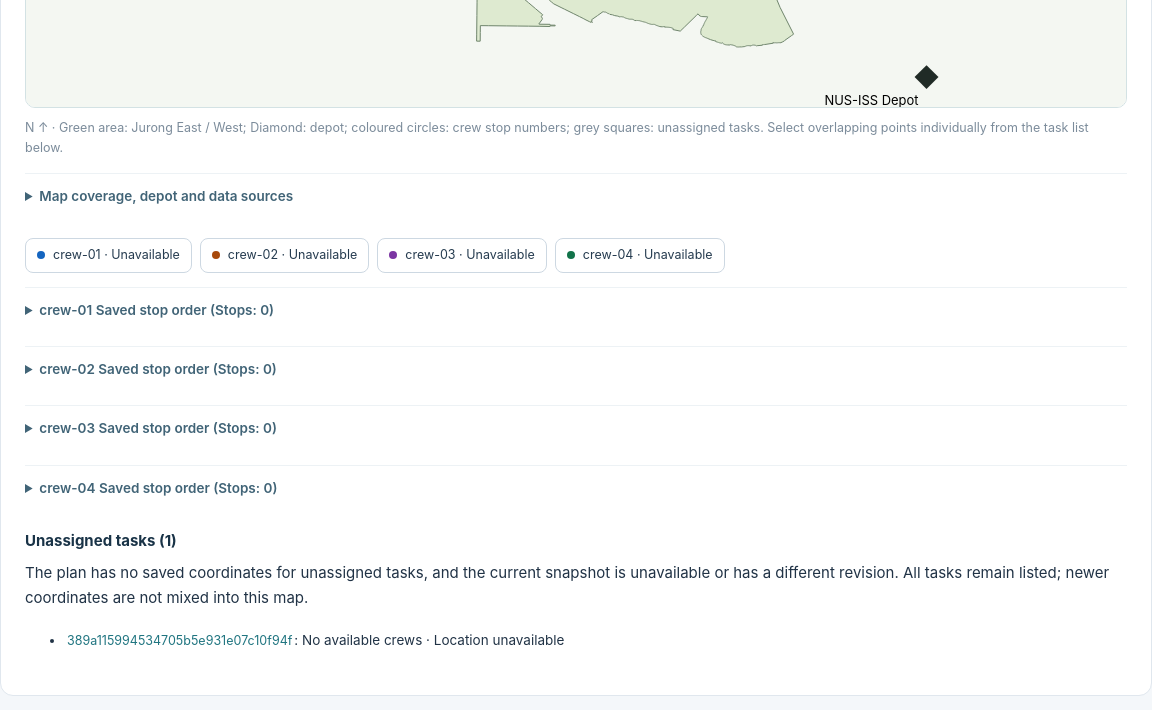
lists all unassigned reasons without using coordinates from another revision
(page scrolled)
Expected: the element named "Unassigned map tasks" shows "No available crews", [302, 632, 422, 648]
What coordinates should you click on to do the following:
click the button "389a115994534705b5e931e07c10f94f"
I would click on:
 (180, 641)
Its box is [65, 626, 294, 656].
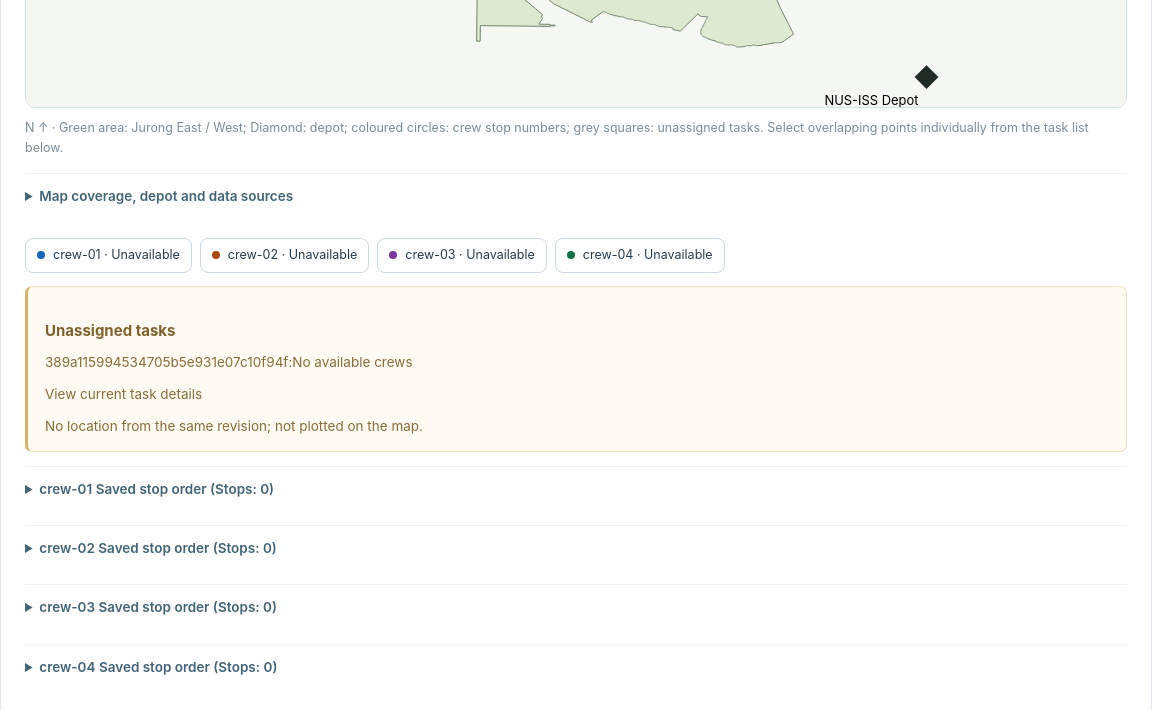
Result: the element named "Selected unassigned task" shows "No location from the same revision" at [45, 418, 423, 434]
